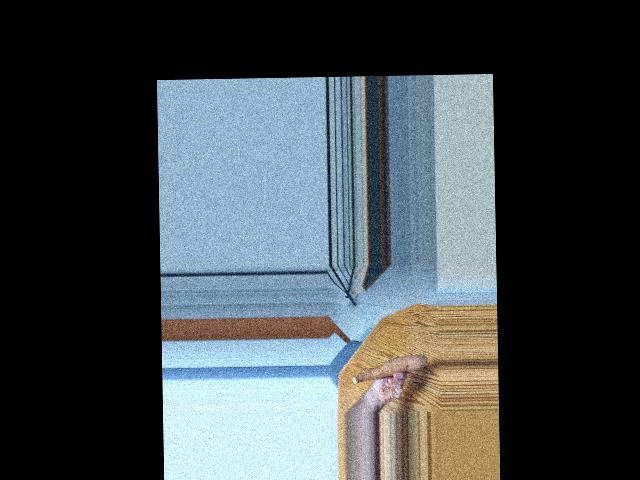sweet_potato: (354, 349, 424, 384)
